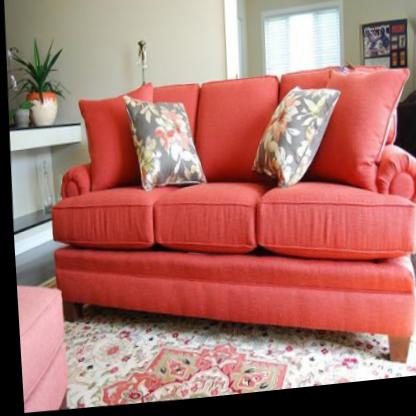Carpet: (56, 305, 416, 410)
Sofa: (38, 58, 416, 399)
